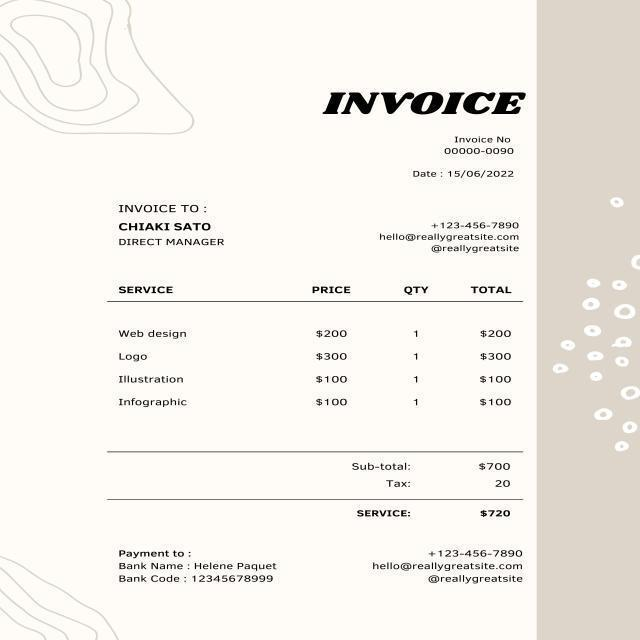ROI: (95, 279, 524, 423), (109, 539, 290, 592), (346, 453, 517, 504), (369, 542, 529, 596), (320, 85, 528, 121), (363, 216, 532, 257), (112, 199, 244, 248), (329, 506, 522, 525), (435, 125, 523, 159), (395, 169, 523, 185)
